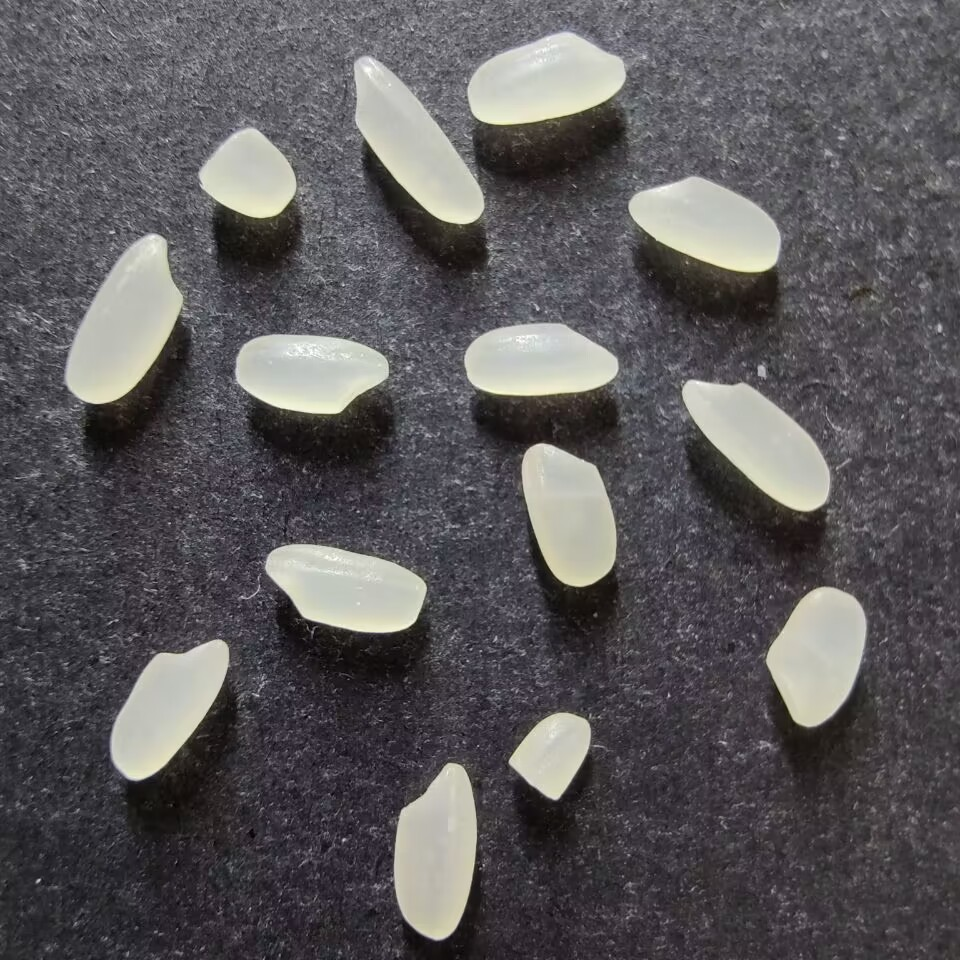broken: (197, 127, 297, 218), (507, 712, 591, 801)
rice: (352, 56, 484, 225), (64, 233, 183, 405), (681, 379, 830, 512), (109, 638, 230, 781), (466, 31, 626, 126), (392, 762, 477, 940), (627, 175, 780, 273), (264, 543, 427, 633), (764, 586, 866, 729), (520, 442, 617, 588), (234, 333, 389, 416), (464, 322, 619, 395)
